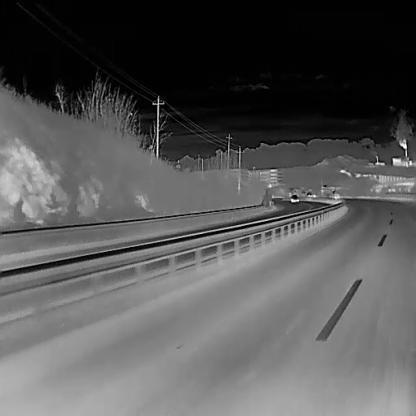car: (289, 193, 299, 203), (331, 189, 340, 199), (305, 191, 313, 200), (312, 193, 317, 198)
